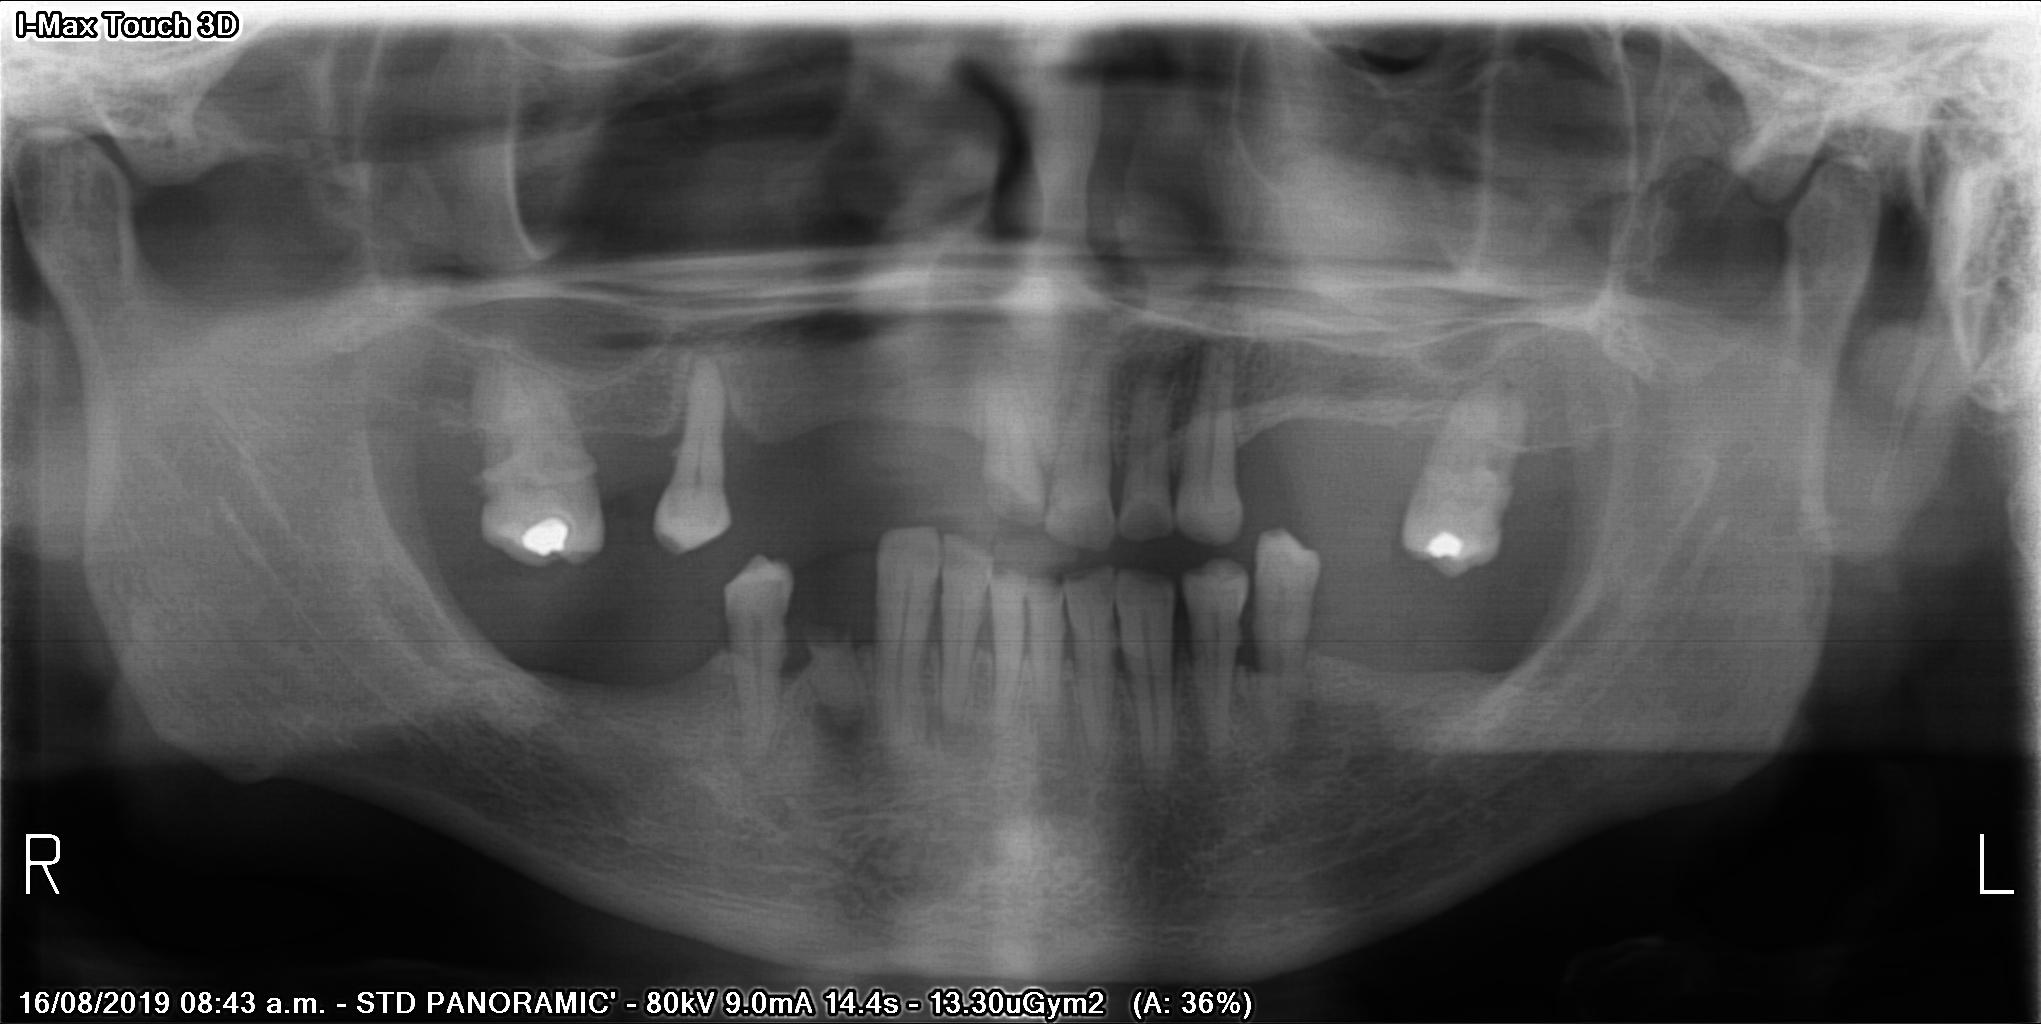Çürük: (513, 514, 582, 564), (1421, 525, 1476, 578)
